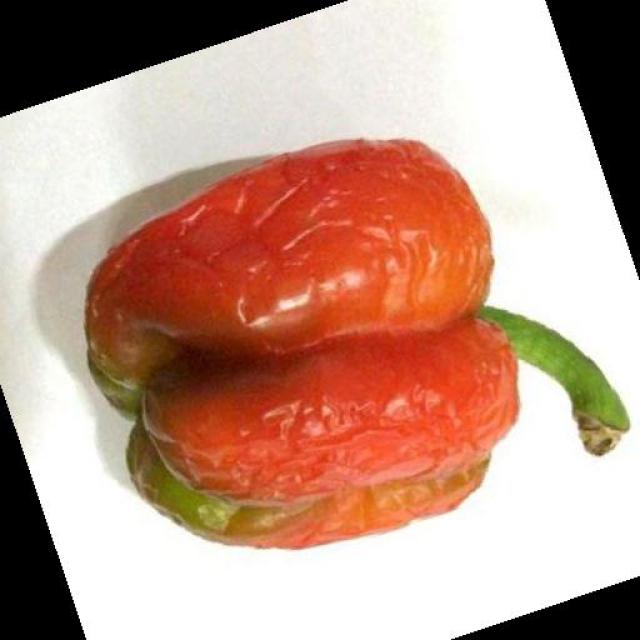Stale_Capsicum: (79, 156, 524, 538)
